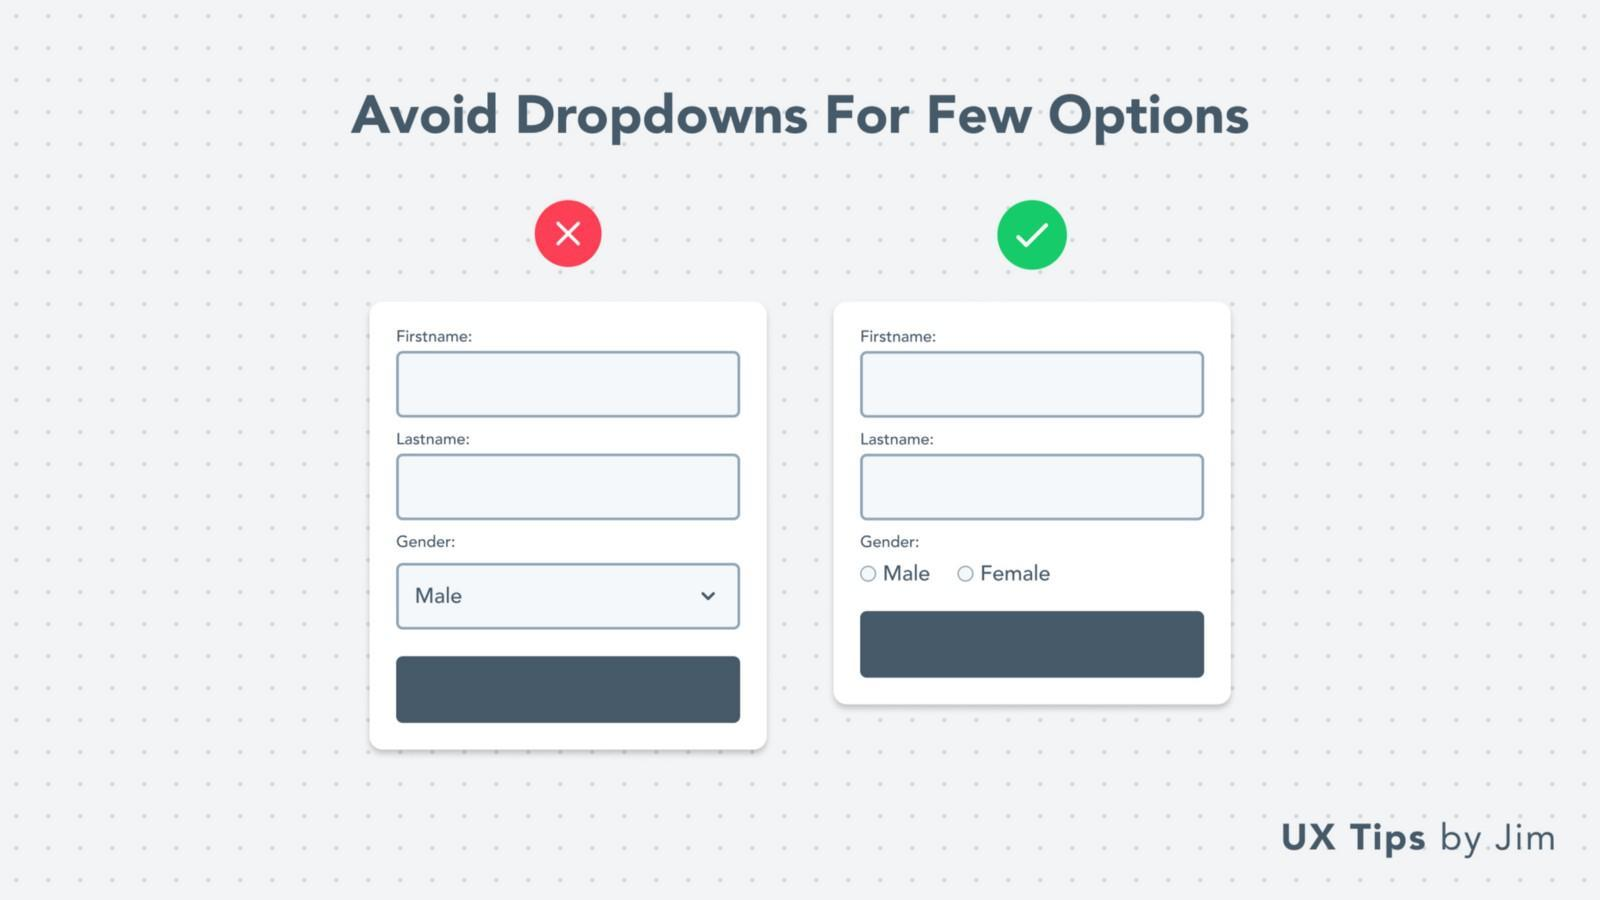button: (398, 658, 742, 727), (863, 611, 1205, 676)
dropdown: (398, 563, 742, 631)
input: (400, 351, 741, 421), (862, 354, 1205, 421), (863, 457, 1205, 518), (399, 456, 738, 516)
label: (332, 85, 1258, 146), (396, 327, 476, 349), (858, 430, 937, 451), (982, 562, 1051, 584), (860, 327, 938, 346), (396, 432, 473, 448), (860, 533, 923, 552), (885, 563, 931, 585), (396, 534, 457, 551)
radio: (958, 564, 976, 582), (860, 565, 877, 585)
